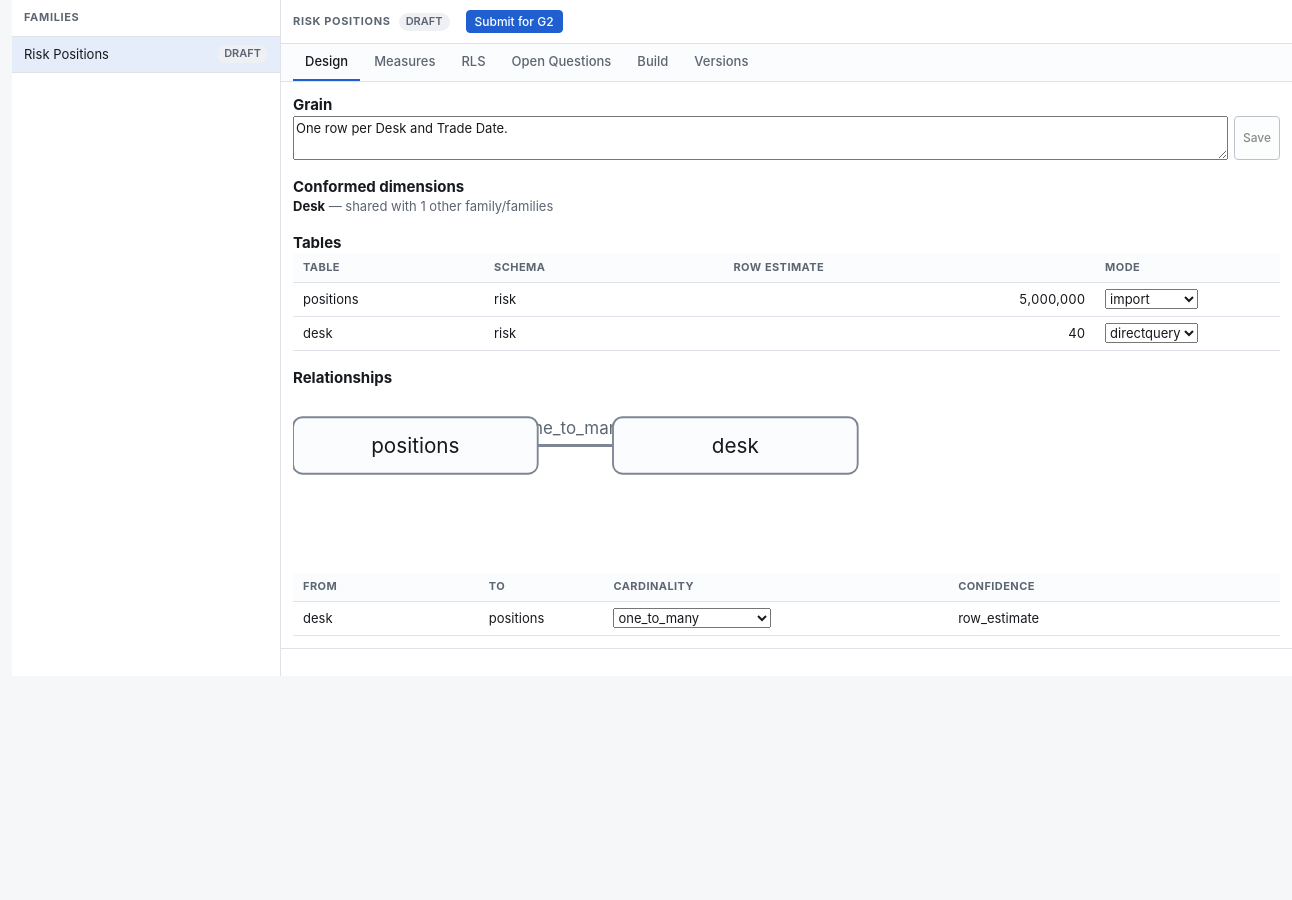
the Measures tab › shows class and pattern as pending — no Transpiler yet
The image size is (1292, 900).
Check: the text box "One row per Desk and Trade Date." is shown, box [293,116,1228,160]
Click the button "Measures" at (405, 63), box [362,44,448,81]
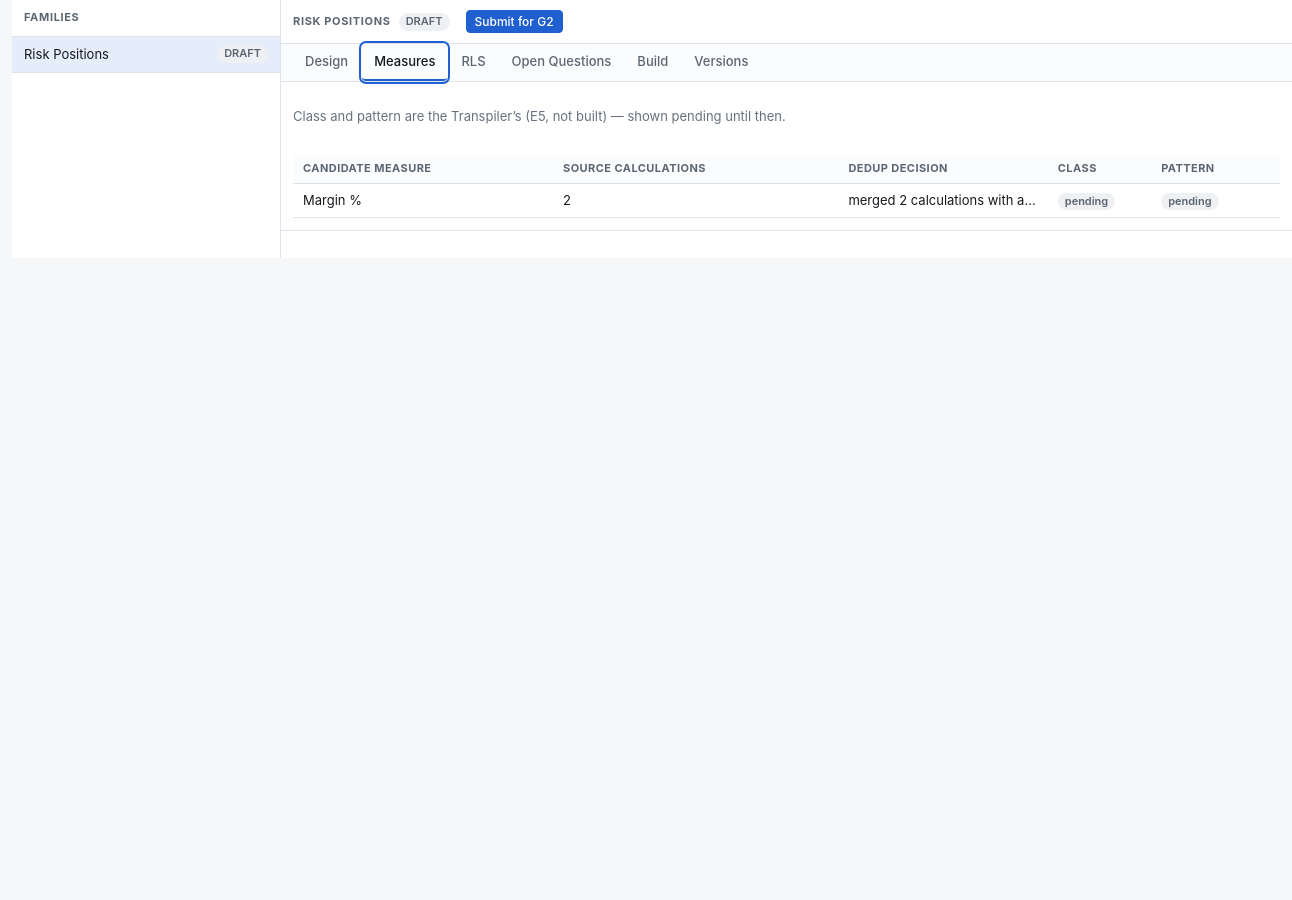
Check: the text "Margin %" is shown, box [293,184,553,218]
Check: the text "pending" is shown 2 times, box [1058,192,1115,210]; [1161,192,1219,210]
